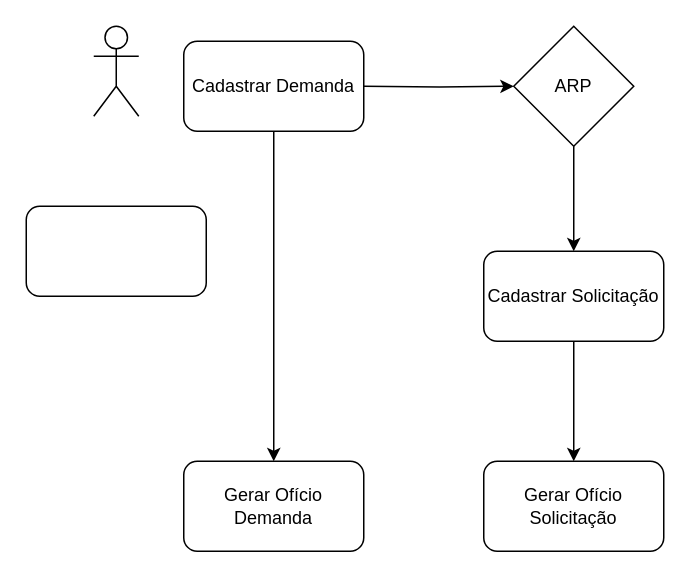
Image size: 690x578. Some labels were removed from this diagram. The centre of each missing label's shape, as x and y in pixels:
"Consultar Licitações" goes at (x=115, y=250).
"Solicitante" goes at (x=115, y=70).
